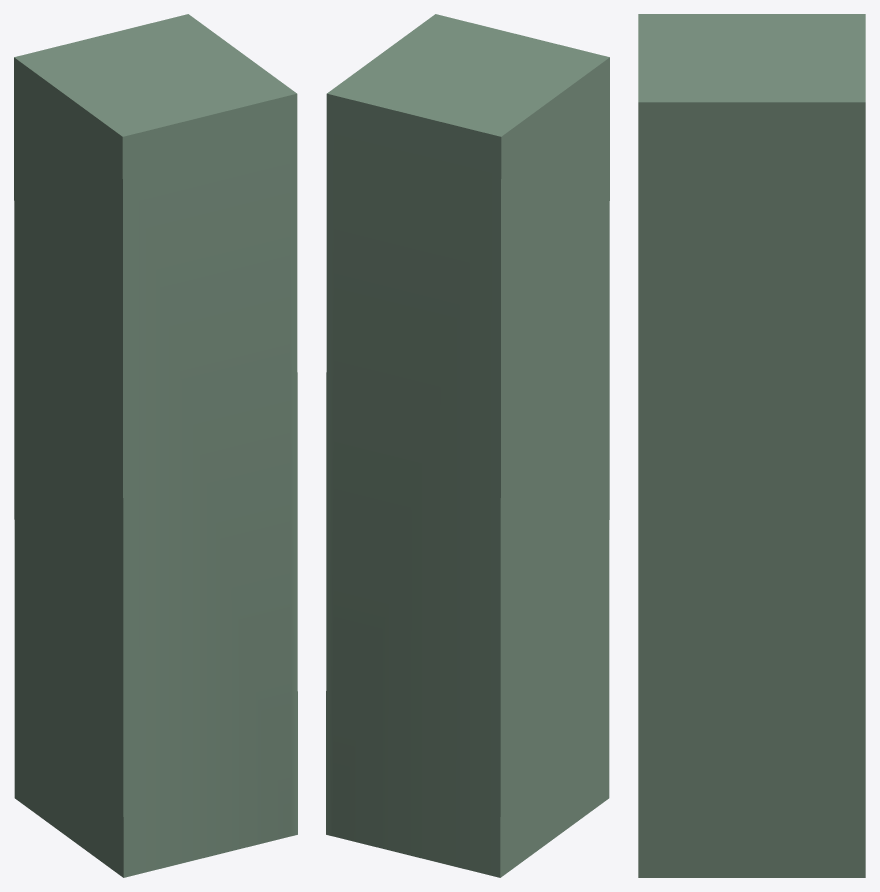
File: MSH_QuestObject_cabinet_09.fbx
3 renders of one model, left to right at view 1: azimuth 30°, elevation 25°; view 2: azimuth 150°, elevation 25°; view 3: azimuth 270°, elevation 25°, orthographic. The views are drawn at different scales.
Visible parts, largest first — view 1: MSH_QuestObject_cabinet_09; view 2: MSH_QuestObject_cabinet_09; view 3: MSH_QuestObject_cabinet_09.
Boxes of the visible parts, bbox=[...] form: MSH_QuestObject_cabinet_09: bbox=[14, 14, 297, 877]; MSH_QuestObject_cabinet_09: bbox=[326, 14, 609, 877]; MSH_QuestObject_cabinet_09: bbox=[638, 14, 865, 877].
Bounding box in the file's own units: 0.7033 × 2.85 × 0.7563.
